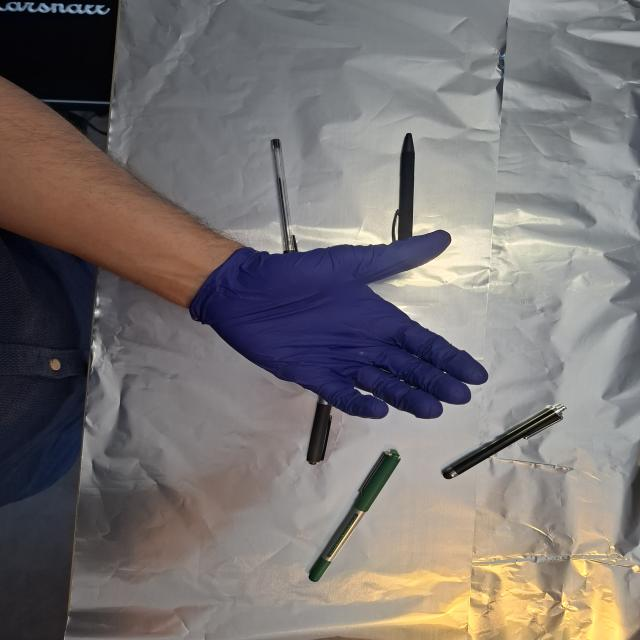glove_on: (185, 227, 492, 422)
